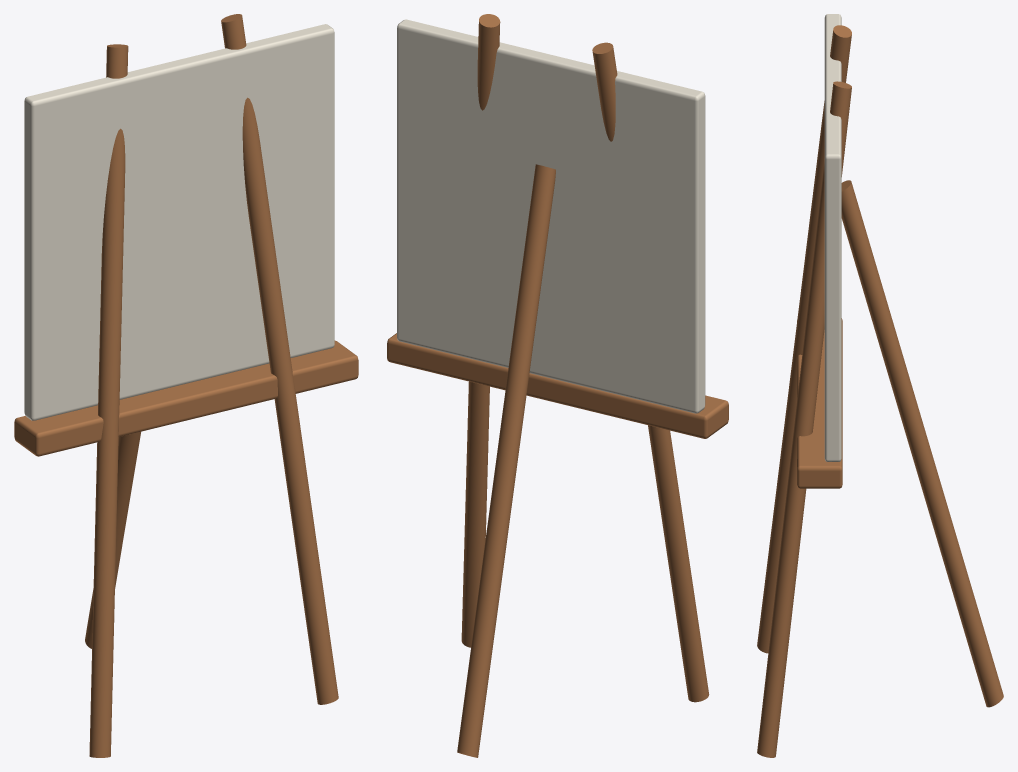
Rendered from wp-chevalet-de-presentation.glb.
3 renders of one model, left to right at view 1: azimuth 30°, elevation 25°; view 2: azimuth 150°, elevation 25°; view 3: azimuth 270°, elevation 25°, orthographic. The views are drawn at different scales.
Visible parts, largest first — view 1: wp-chevalet-de-presentation; view 2: wp-chevalet-de-presentation; view 3: wp-chevalet-de-presentation.
Boxes of the visible parts, <box> form: wp-chevalet-de-presentation: <box>14,14,358,757</box>; wp-chevalet-de-presentation: <box>387,14,728,757</box>; wp-chevalet-de-presentation: <box>757,14,1003,757</box>.
Bounding box in the file's own units: 0.8 × 1.6 × 0.5498.
